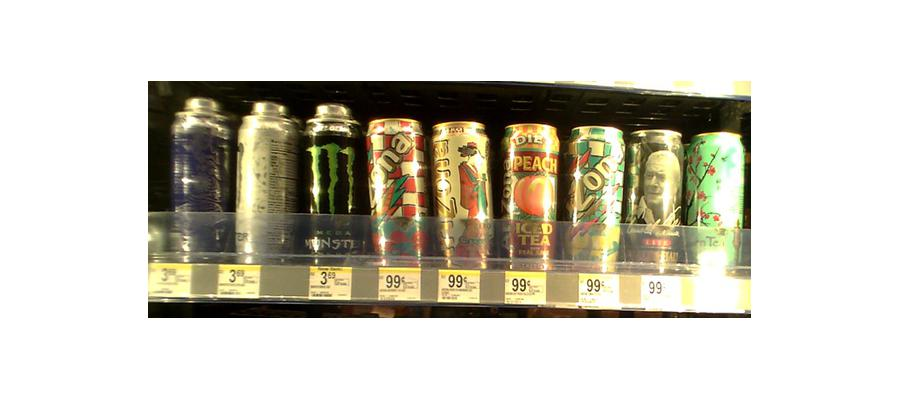bottle: (167, 96, 233, 264), (235, 101, 298, 261), (301, 107, 363, 262), (430, 123, 495, 266), (366, 116, 428, 264), (501, 121, 561, 269), (567, 125, 623, 271), (689, 133, 743, 280), (629, 127, 682, 273)
